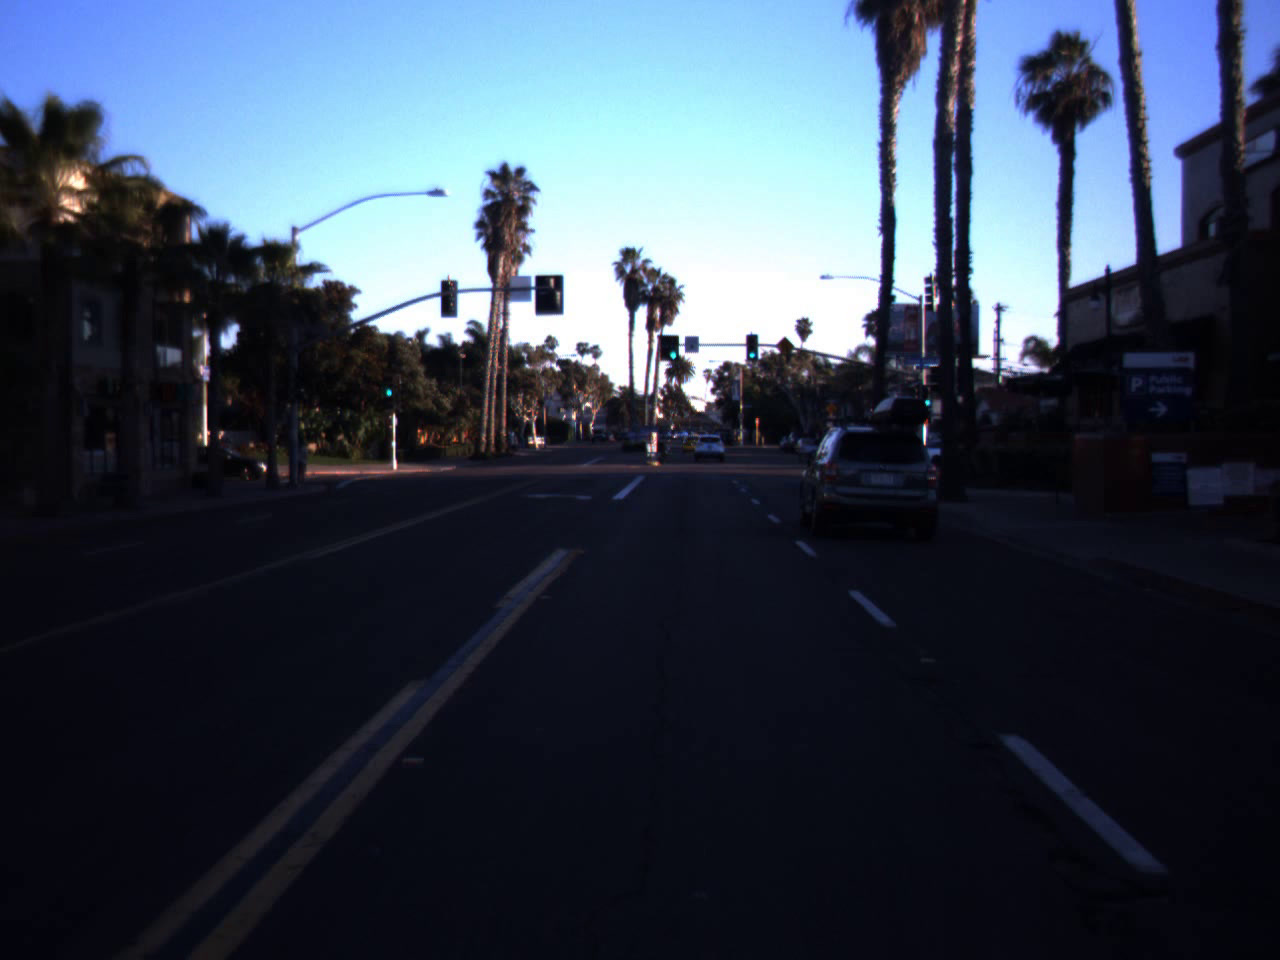go: (666, 335, 681, 360), (922, 382, 934, 407), (383, 376, 395, 396), (746, 339, 758, 359)
